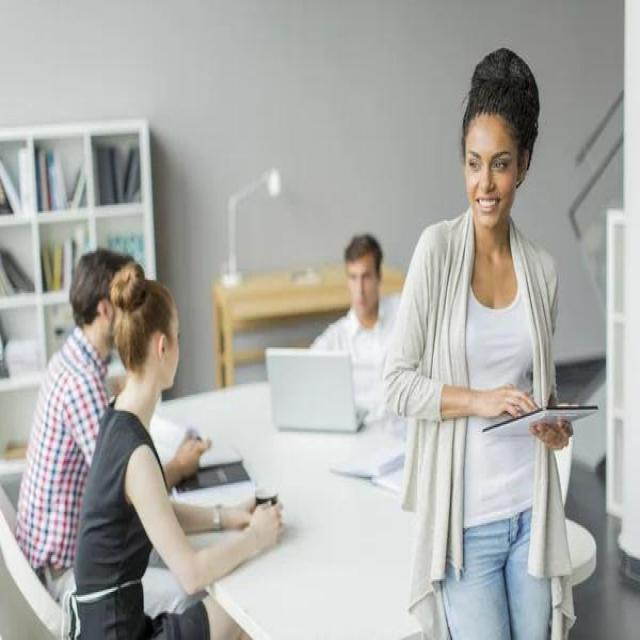person: (376, 32, 598, 637), (79, 256, 283, 638), (27, 237, 175, 586), (286, 219, 455, 437)
